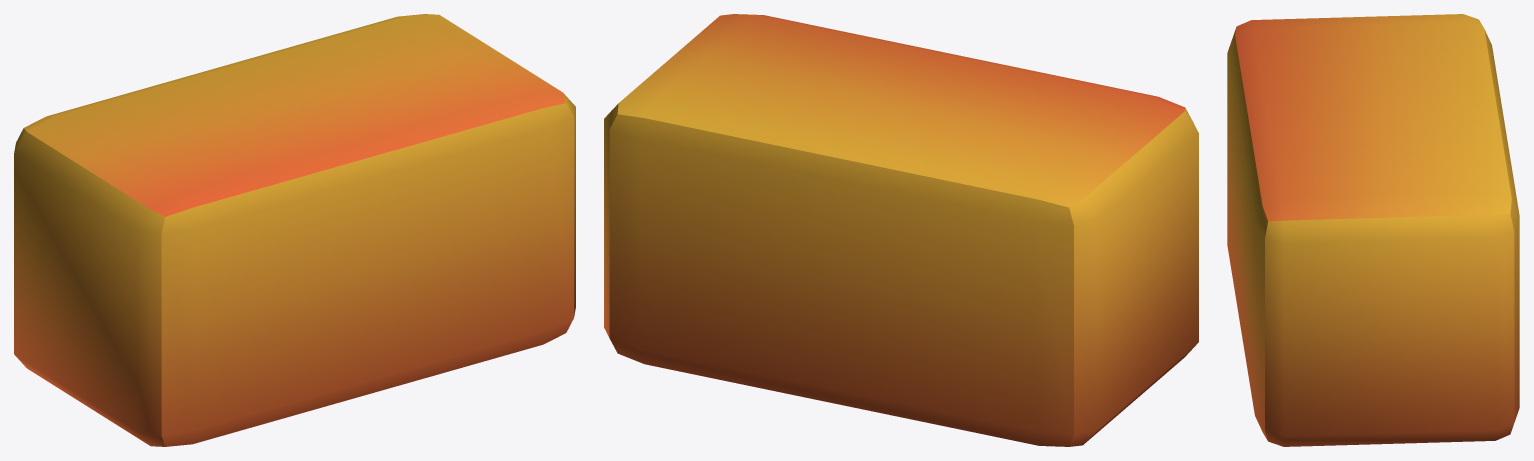
The model's file is Props_Box_02.fbx.
3 renders of one model, left to right at view 1: azimuth 30°, elevation 25°; view 2: azimuth 150°, elevation 25°; view 3: azimuth 270°, elevation 25°, orthographic. The views are drawn at different scales.
Parts seen in each view (by area): view 1: Props_Box_02; view 2: Props_Box_02; view 3: Props_Box_02.
Boxes of the visible parts, x1,y1,x2,y2 form: Props_Box_02: [14, 14, 575, 446]; Props_Box_02: [604, 14, 1198, 446]; Props_Box_02: [1227, 14, 1519, 446].
Size of the model in its own units: 102 by 52.32 by 57.63.
